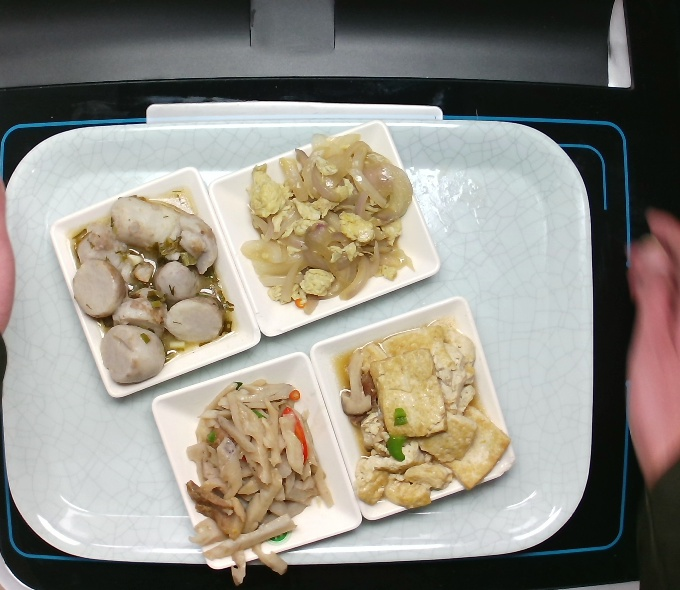wcq-JiaChangDouFu: (333, 319, 518, 514)
wcq-QingChaoOuPian: (176, 373, 334, 590)
wcq-YangCongChaoDan: (238, 129, 417, 321)
wcq-YangYu: (68, 180, 239, 389)
